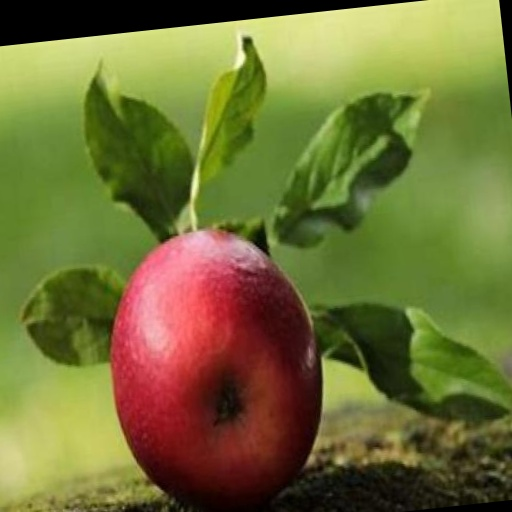fruit: (110, 230, 321, 511)
